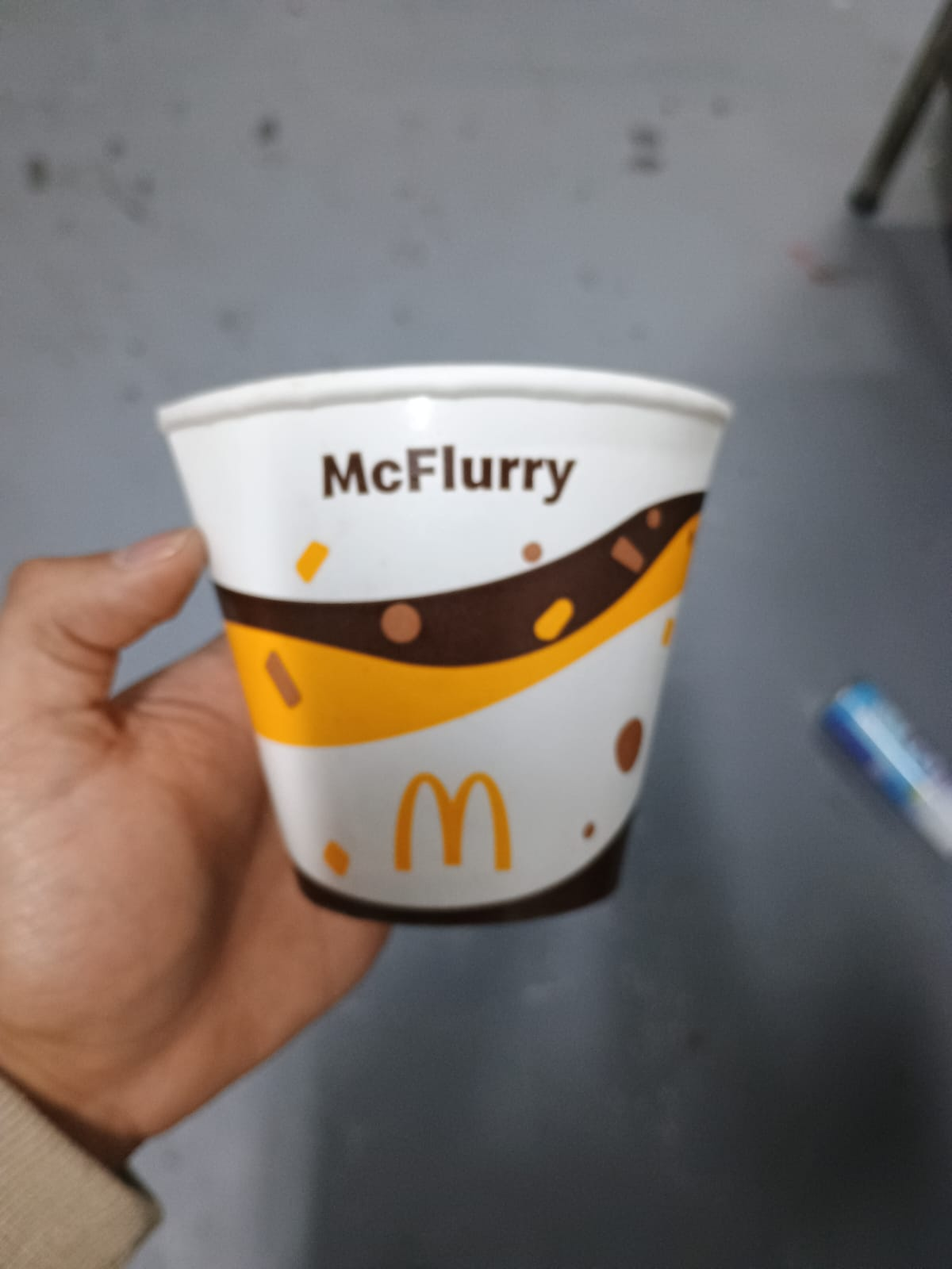Carton: (156, 361, 735, 922)
